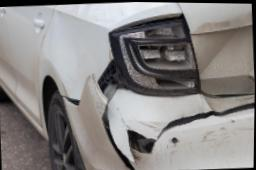Bumper: (62, 74, 255, 170)
Dickey: (176, 2, 255, 94)
Light: (104, 12, 202, 97)
